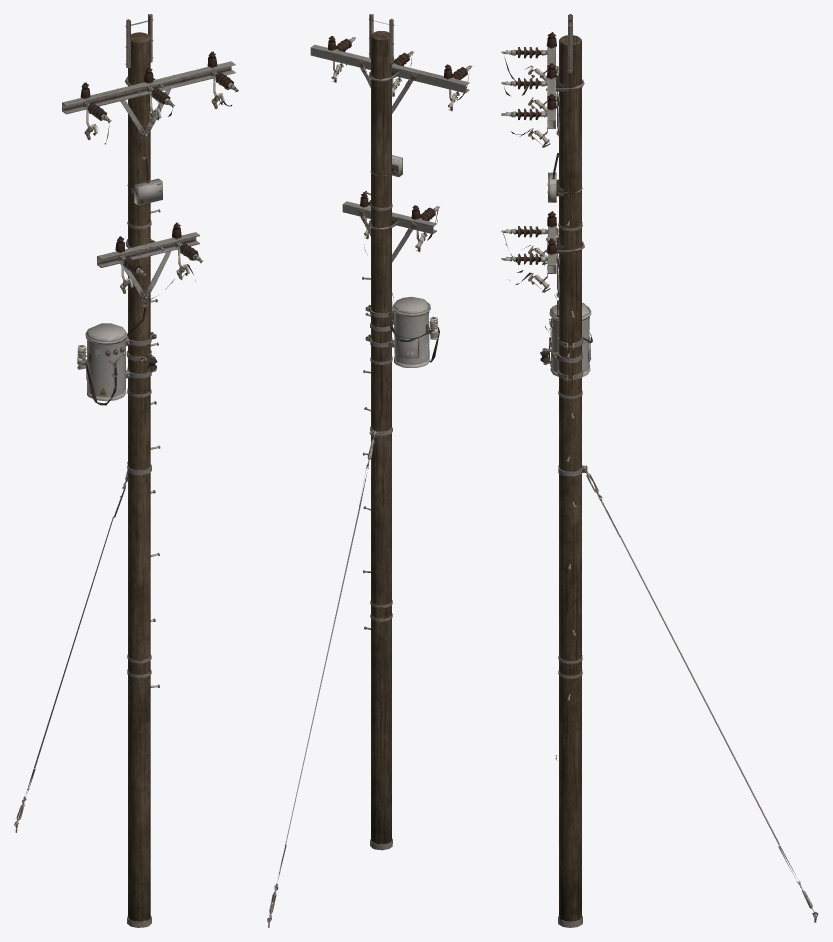
The model's file is poteau_electrique_a_lod0.glb.
3 renders of one model, left to right at view 1: azimuth 30°, elevation 25°; view 2: azimuth 150°, elevation 25°; view 3: azimuth 270°, elevation 25°, orthographic. The views are drawn at different scales.
Visible parts, largest first — view 1: preset_01_pole, preset_01_bolt_small_01; view 2: preset_01_pole, preset_01_bolt_small_01; view 3: preset_01_pole, preset_01_bolt_small_01.
Boxes of the visible parts, left/top/right/bottom form: preset_01_pole: left=128, top=32, right=150, bottom=921; preset_01_bolt_small_01: left=14, top=14, right=238, bottom=927; preset_01_pole: left=371, top=31, right=391, bottom=844; preset_01_bolt_small_01: left=267, top=14, right=472, bottom=927; preset_01_pole: left=559, top=35, right=581, bottom=921; preset_01_bolt_small_01: left=501, top=14, right=818, bottom=927.
Size of the model in its own units: 1.2 by 6.13 by 1.95.
2 materials, 2 textured.
